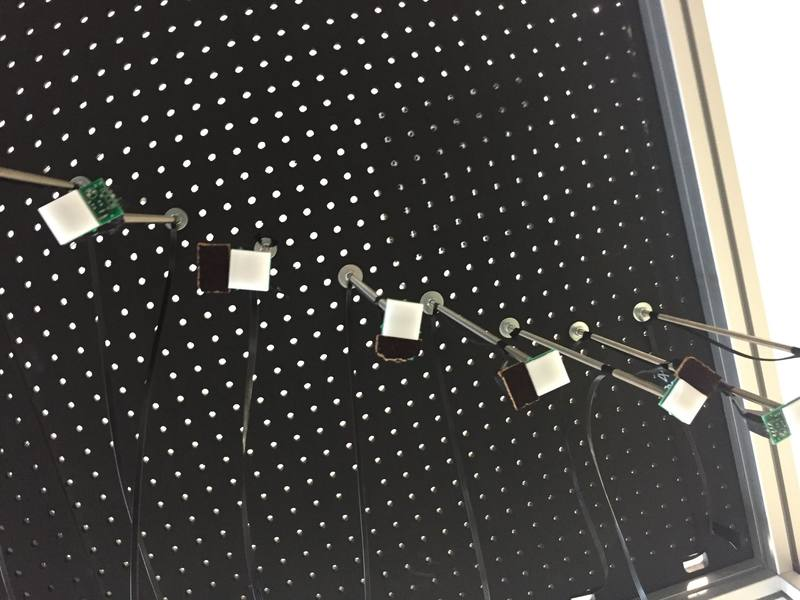target: (34, 192, 100, 244), (523, 345, 572, 401), (661, 376, 707, 427), (228, 248, 271, 294), (384, 297, 423, 345)
